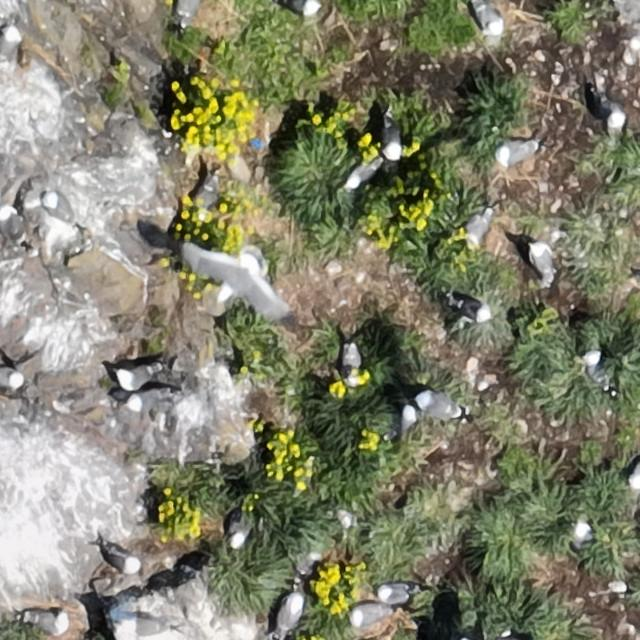F: (184, 237, 289, 323)
umineko: (225, 504, 258, 552), (124, 388, 171, 414), (418, 395, 460, 418), (474, 2, 502, 36), (276, 594, 302, 630), (29, 612, 70, 634), (44, 193, 74, 223), (497, 142, 536, 165), (348, 159, 380, 187), (466, 211, 492, 245), (106, 547, 139, 573), (351, 604, 389, 626), (532, 244, 554, 282), (118, 366, 155, 388), (456, 298, 491, 321), (382, 118, 400, 159), (603, 98, 626, 130), (585, 350, 605, 386), (380, 582, 413, 603), (1, 28, 21, 62), (2, 205, 18, 246), (400, 404, 418, 434), (343, 341, 359, 373), (179, 2, 202, 24), (1, 367, 23, 389), (281, 1, 314, 14), (574, 520, 591, 545), (630, 458, 639, 488)
